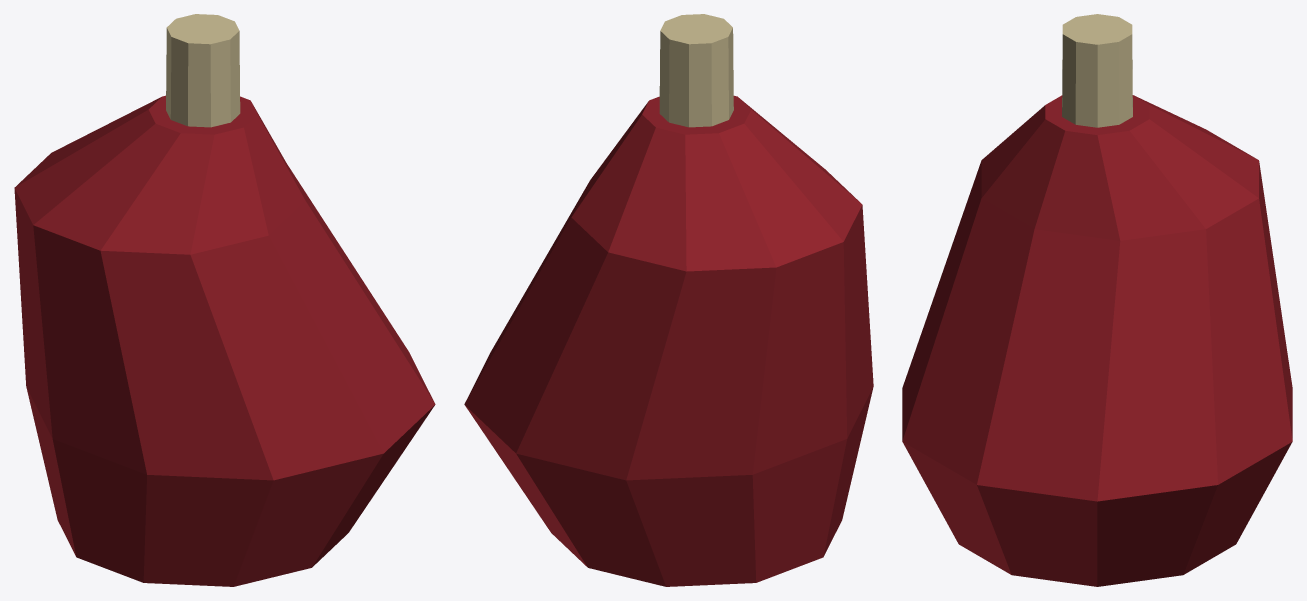
The model's file is Flesh.fbx.
3 renders of one model, left to right at view 1: azimuth 30°, elevation 25°; view 2: azimuth 150°, elevation 25°; view 3: azimuth 270°, elevation 25°, orthographic.
Parts seen in each view (by area): view 1: muscle, bone; view 2: muscle, bone; view 3: muscle, bone.
Part boxes in pixels (x1=…): muscle: x1=14, y1=95, x2=435, y2=586; bone: x1=166, y1=14, x2=240, y2=127; muscle: x1=464, y1=95, x2=873, y2=586; bone: x1=659, y1=14, x2=733, y2=127; muscle: x1=902, y1=95, x2=1292, y2=586; bone: x1=1062, y1=14, x2=1132, y2=127.
Size of the model in its own units: 9.2 by 12 by 8.56.
